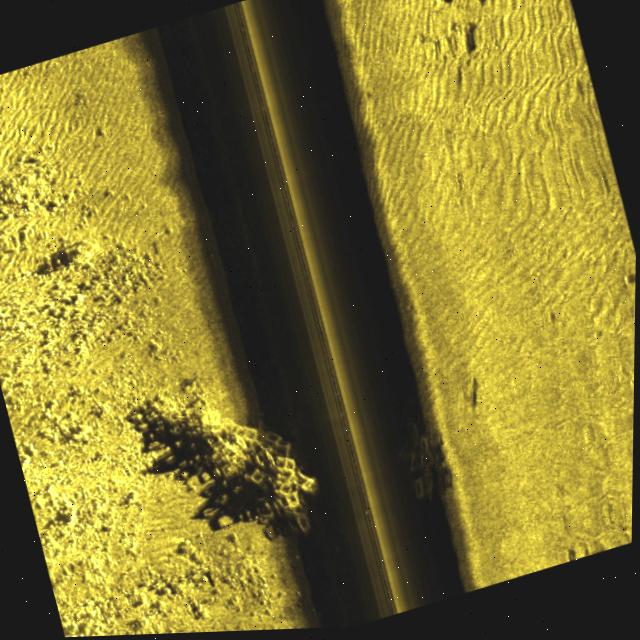artificial reef: (142, 361, 343, 591), (379, 420, 453, 515)
